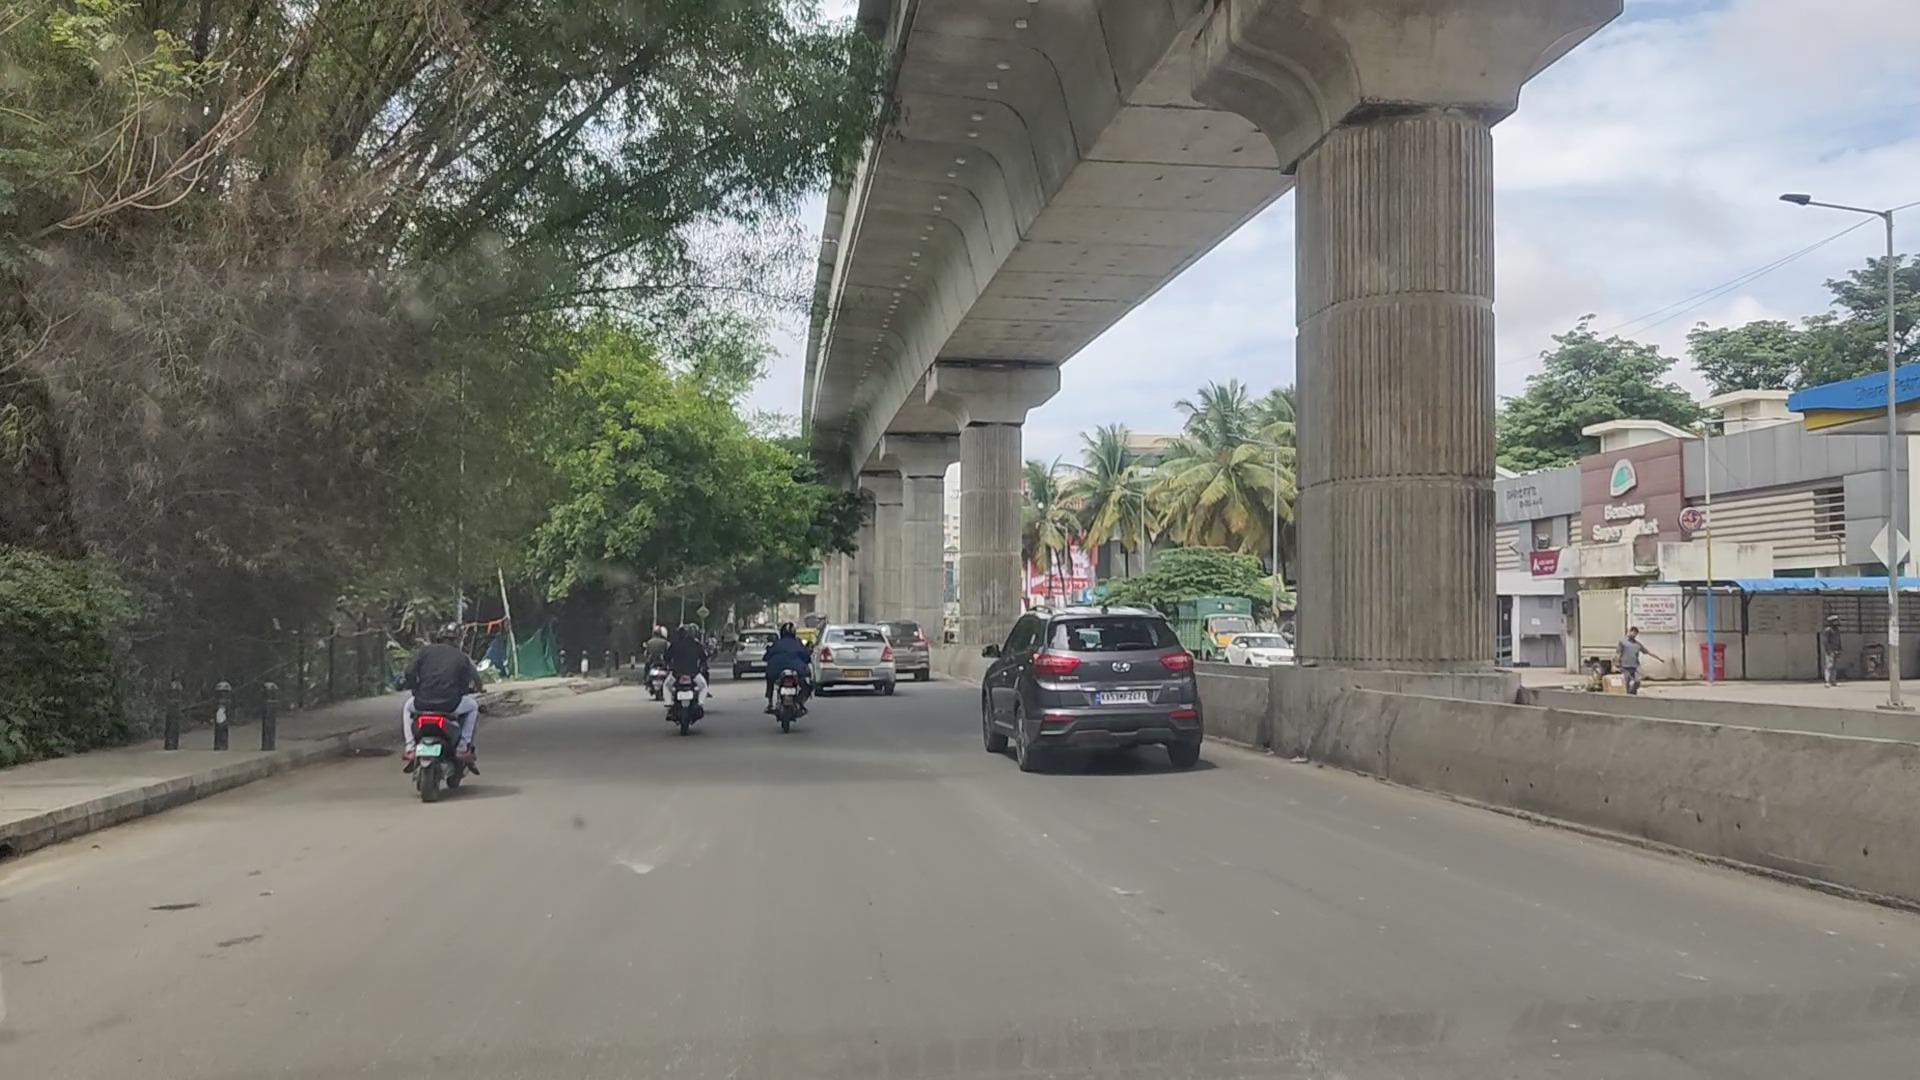LMV: (981, 599, 1230, 785), (393, 589, 484, 814), (760, 615, 820, 738), (665, 620, 711, 738)
